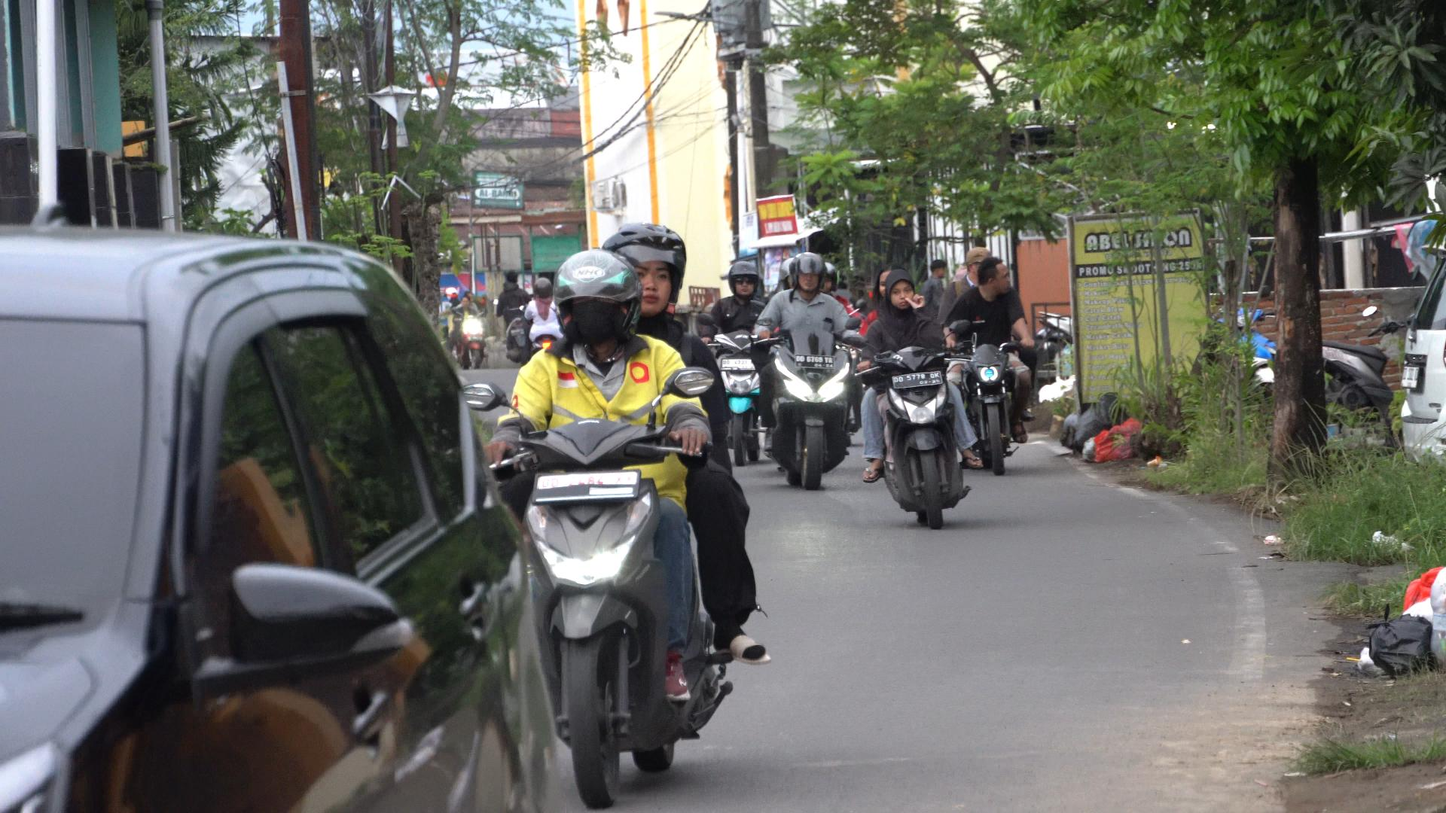number-plate: (533, 473, 638, 504), (893, 373, 944, 388), (794, 353, 834, 369)
